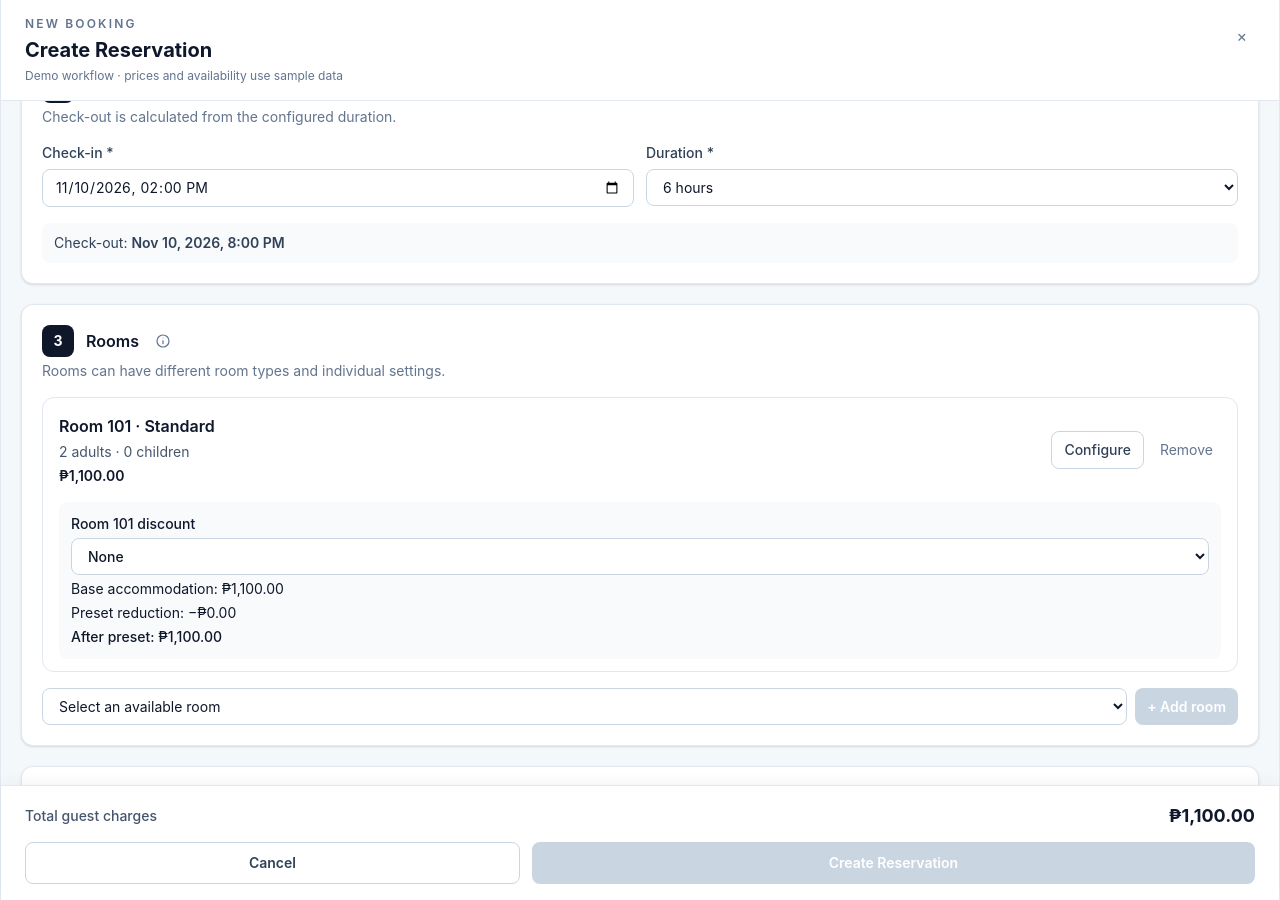
Scenario: contextual discount application › applies item presets only to their selected line and removes them with that line
(page scrolled)
Click the button "Configure".
click(1098, 450)  # box 1051,431 -> 1144,469
(page scrolled)
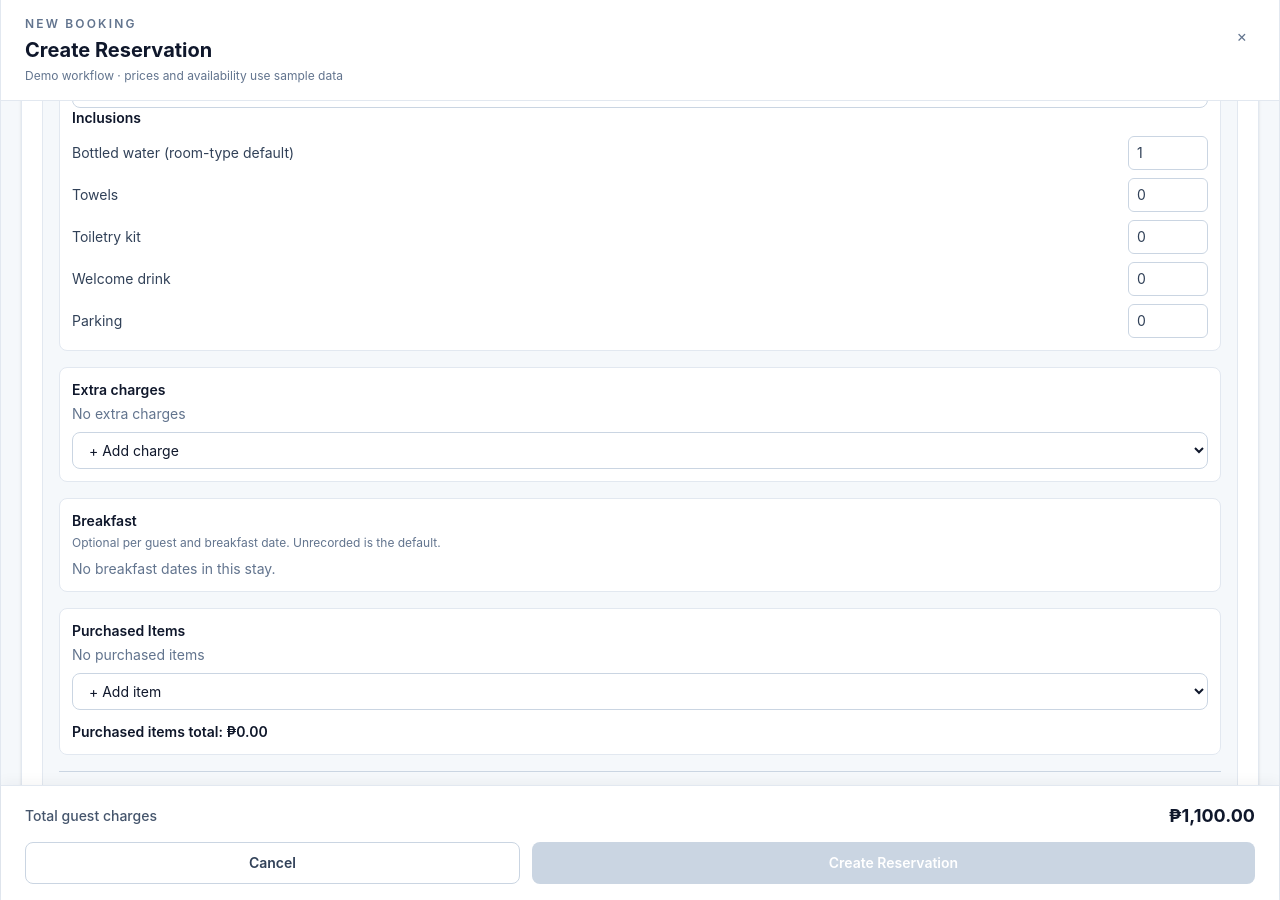
Select "Laundry · ₱120.00" in the dropdown named "Add extra charge" at (640, 450), box 72,432 -> 1208,469
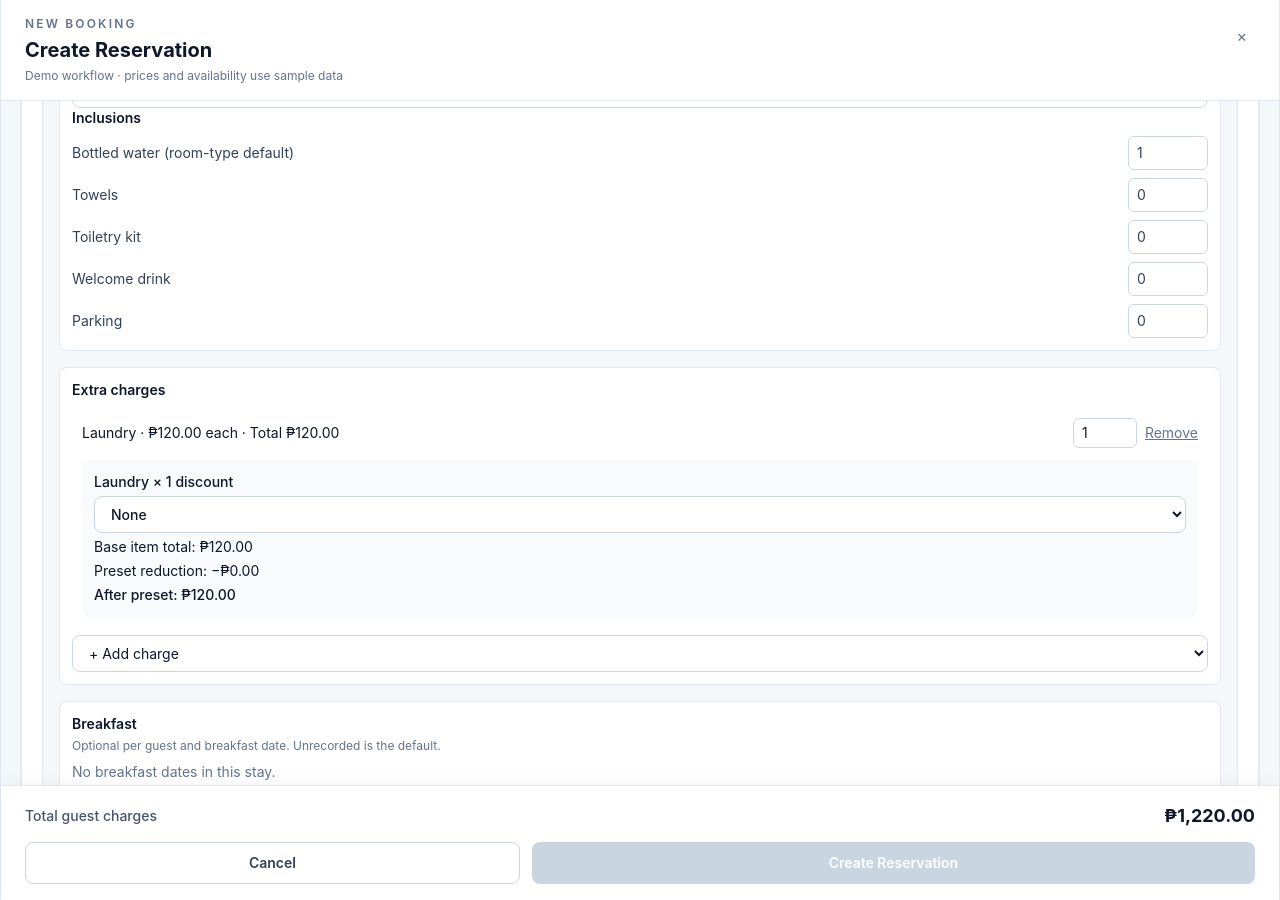
Replace the text in the number field named "Laundry quantity" with "3" at (1105, 433), box 1073,418 -> 1137,448
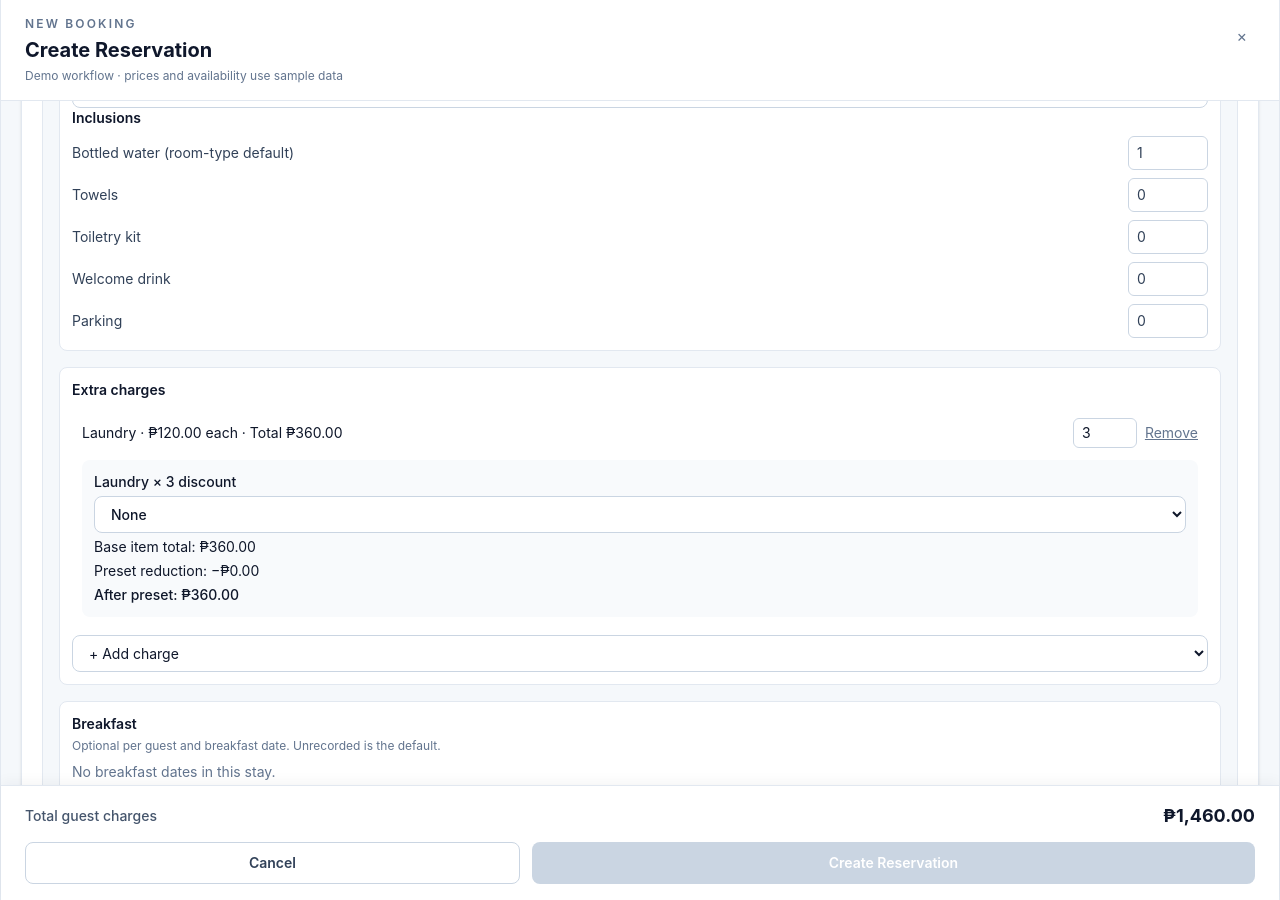
Select "Laundry Special Price" in the dropdown labelled "Laundry × 3 discount" at (640, 514), box 94,496 -> 1186,533
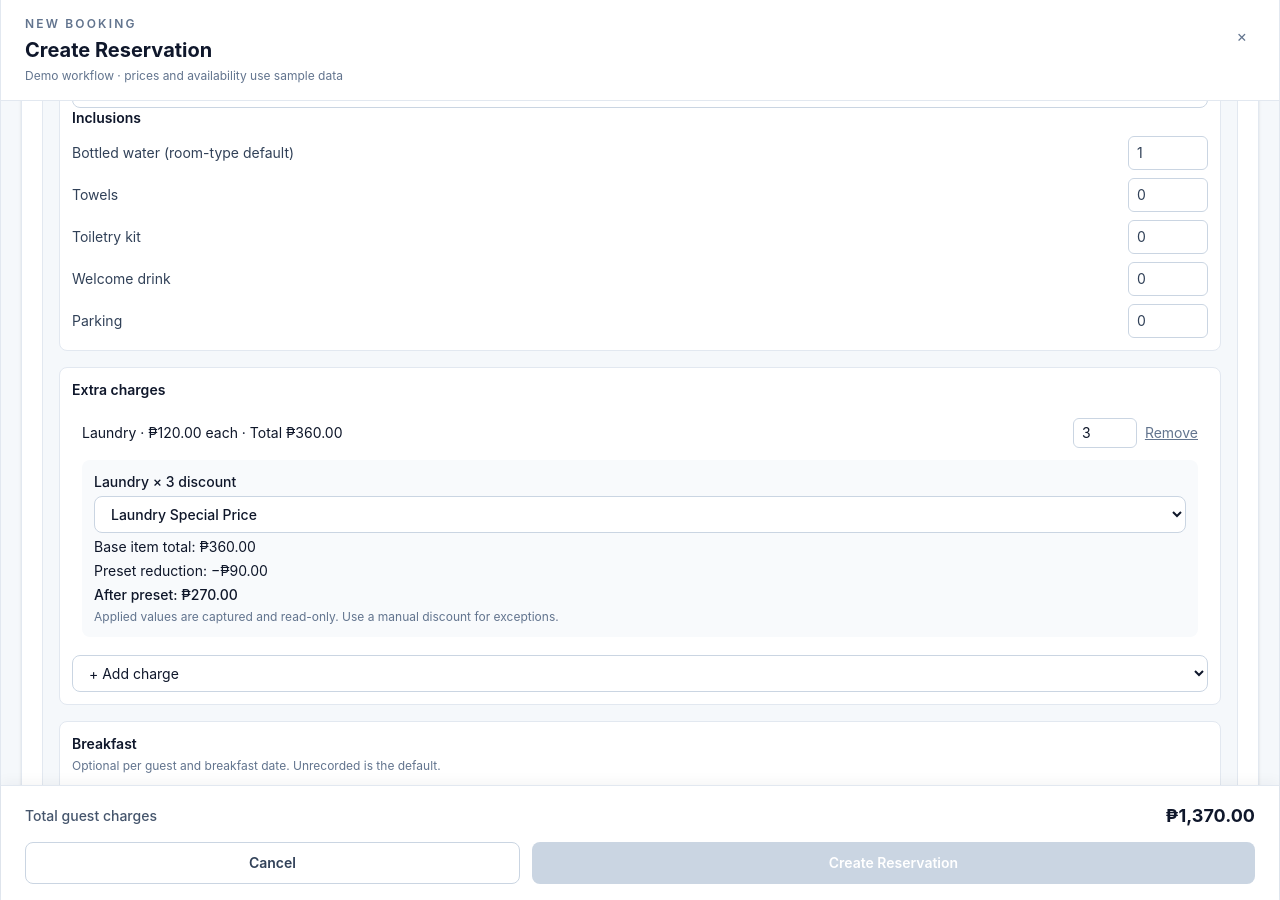
Click the button "Remove".
click(1171, 433)  # box 1145,423 -> 1198,443
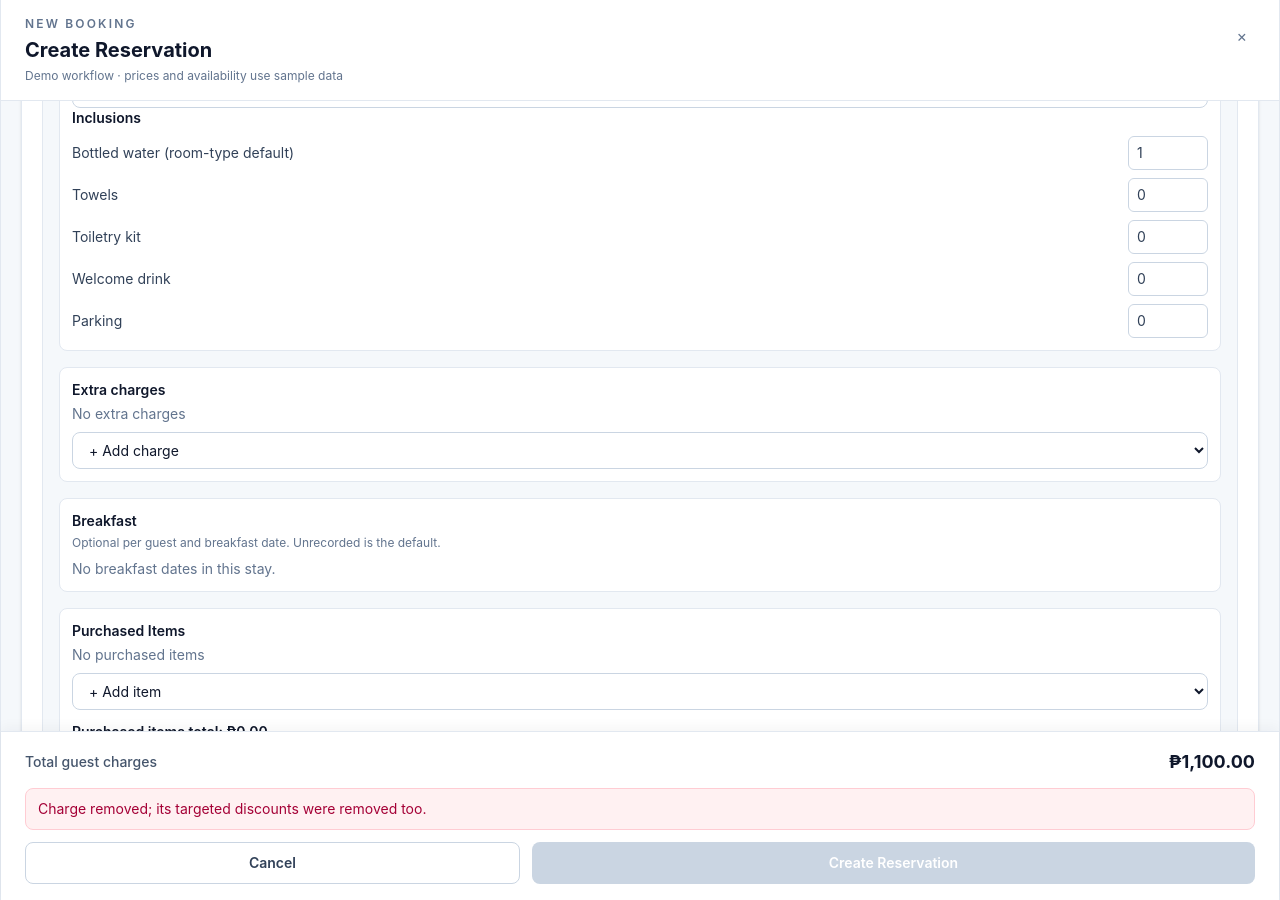
Check: the text "Charge removed; its targeted discounts were removed too." is shown, box 25,788 -> 1255,830
